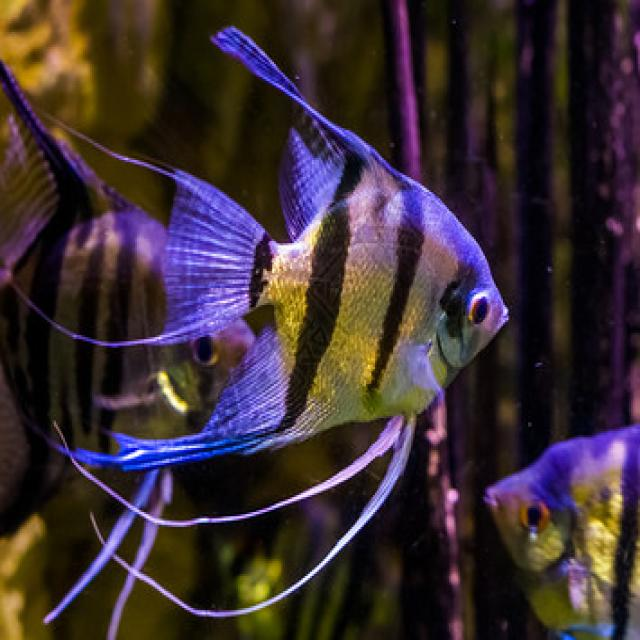AngelFish: (87, 22, 512, 584)
